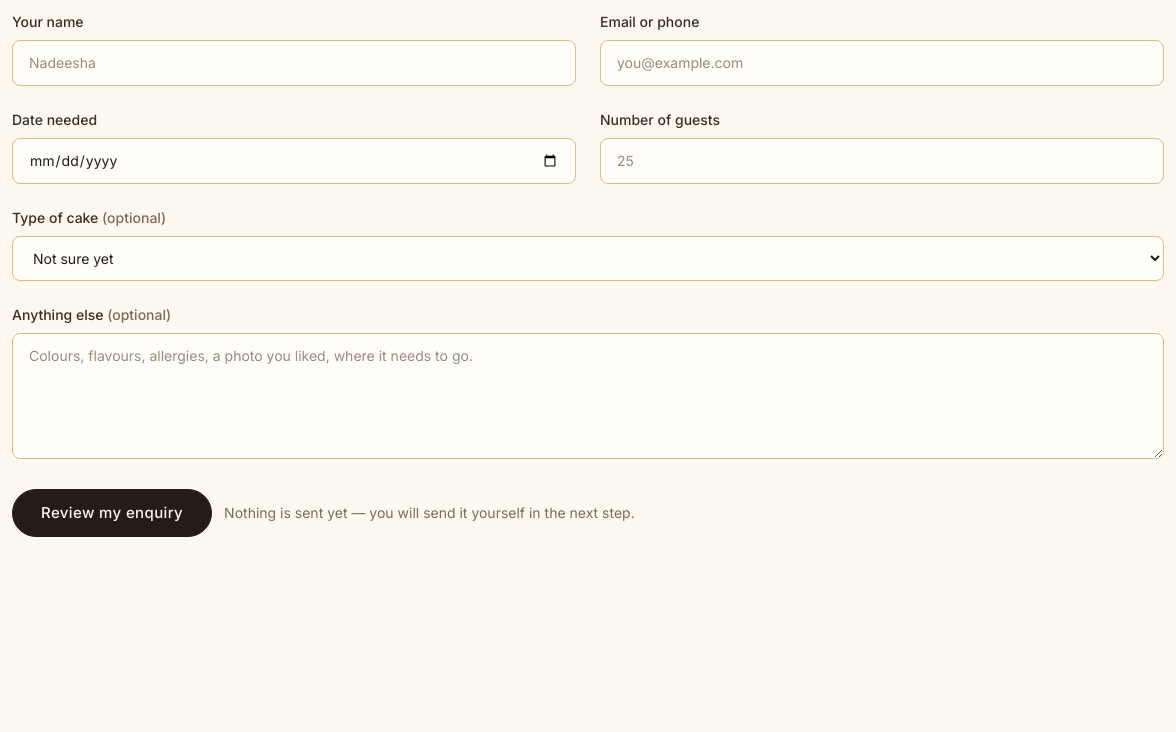
Test case: OrderForm › reports every missing answer when submitted empty
This screenshot has width=1176, height=732.
Click the button "Review my enquiry". click: (112, 513)
box: [12,489,212,537]
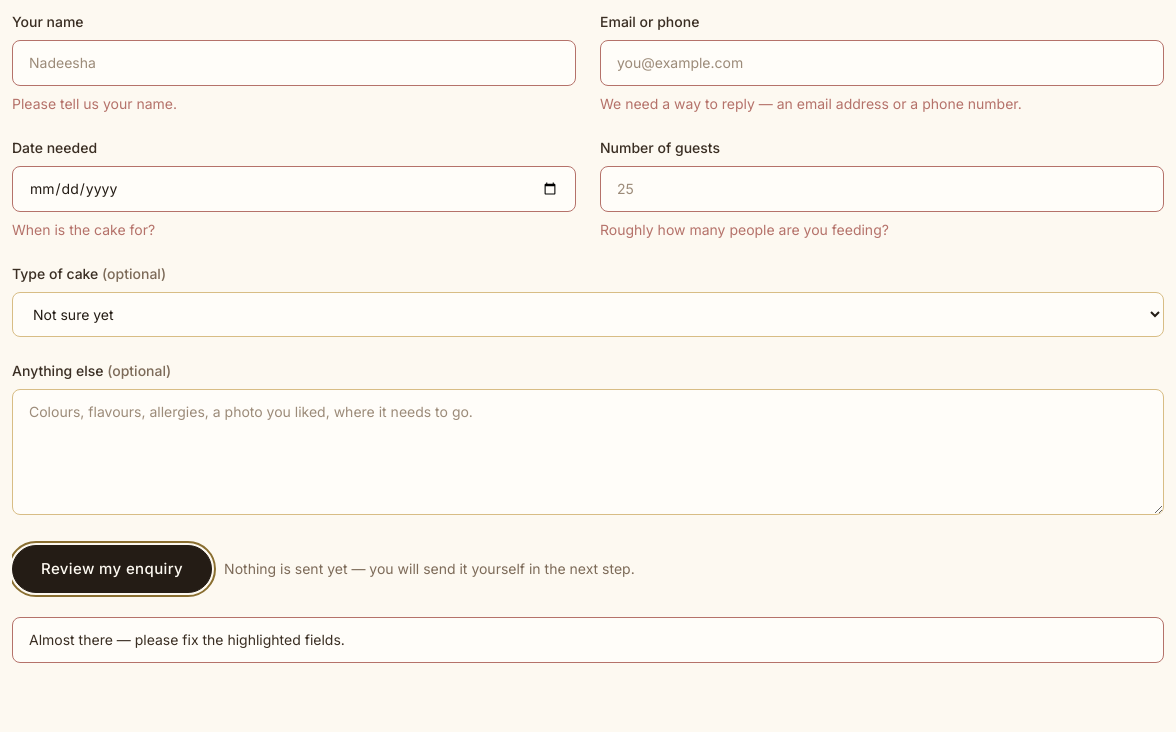
Expected: the text "Please tell us your name." is shown, [12,95,177,112]
Expected: the text "We need a way to reply — an email address or a phone number." is shown, [600,95,1022,112]
Expected: the text "When is the cake for?" is shown, [12,221,155,238]
